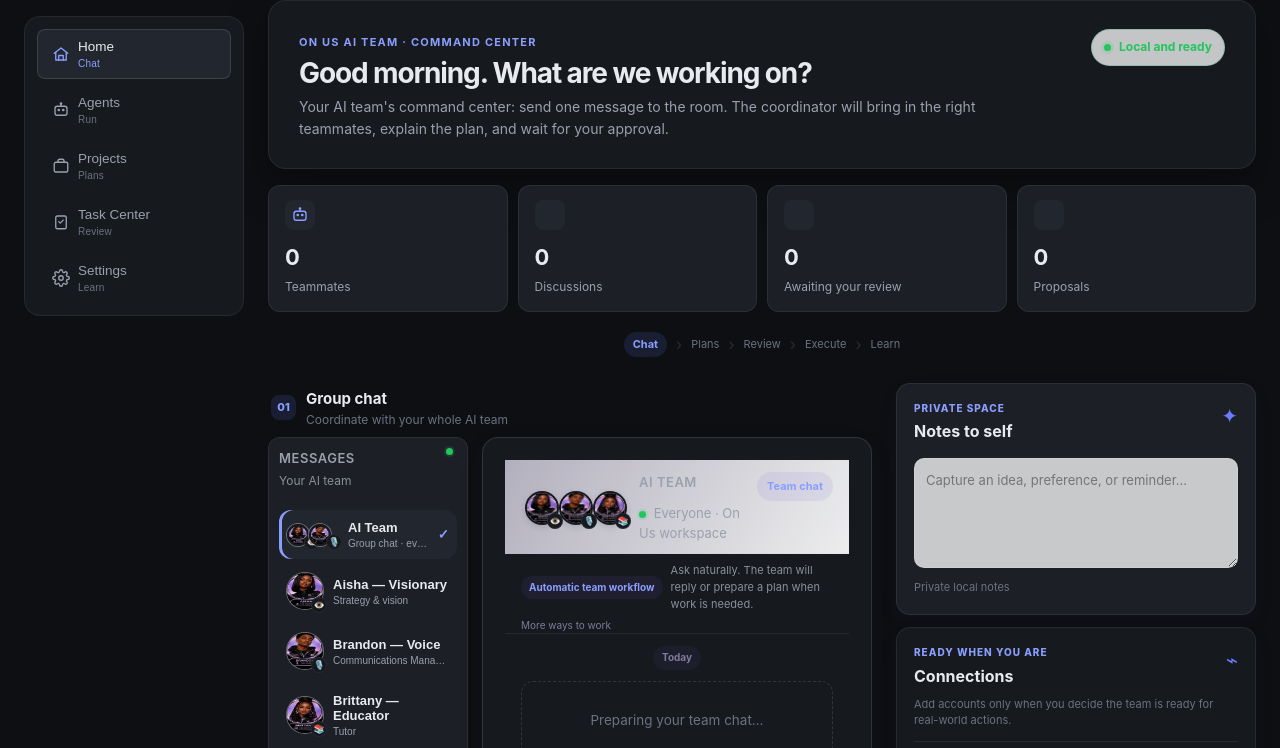
Test: Phase 4 — Task Center, Settings, conversation-to-task › renders tasks loaded from /tasks in the Task Center
This screenshot has width=1280, height=748.
Click the button "Task Center Review": click(134, 222) [37,197,231,247]
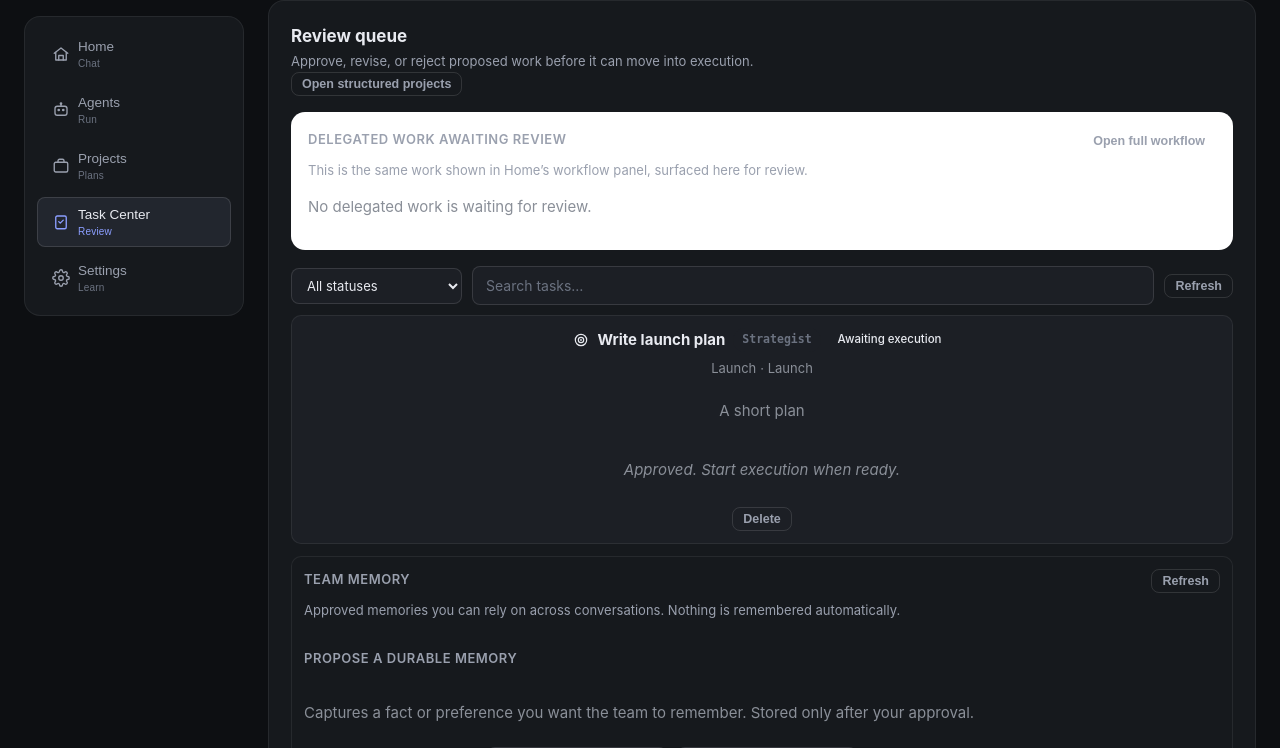
Check: the text "Write launch plan" is shown, box [598,330,725,349]
Check: the text "Approved. Start execution when ready." is shown, box [624,460,900,479]
